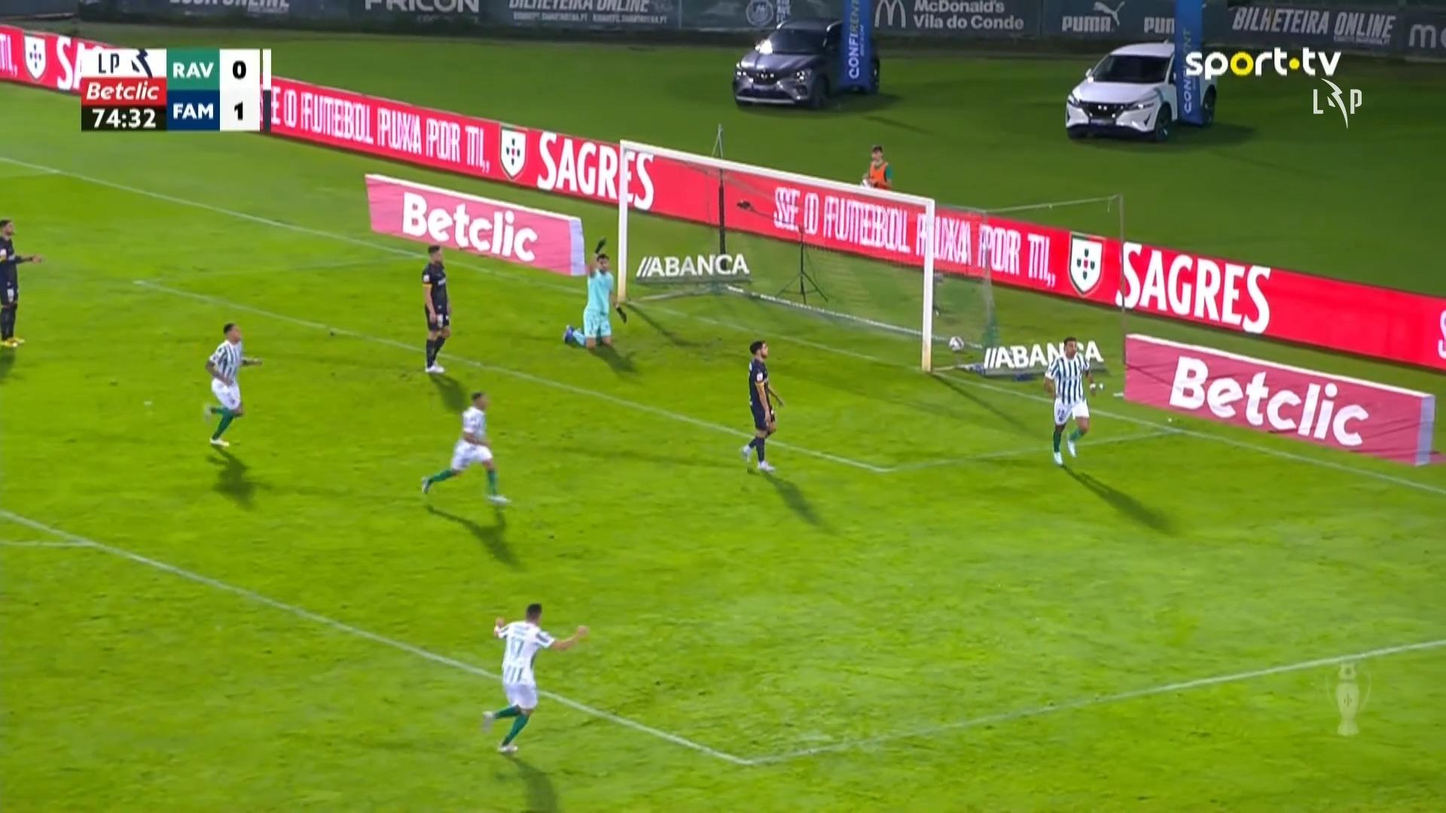ball: (948, 336, 964, 352)
goalkeeper: (562, 240, 626, 350)
player: (480, 601, 589, 754), (419, 390, 510, 505), (203, 321, 262, 447), (1042, 336, 1098, 467), (739, 339, 784, 471), (0, 218, 44, 348), (420, 242, 451, 373)
